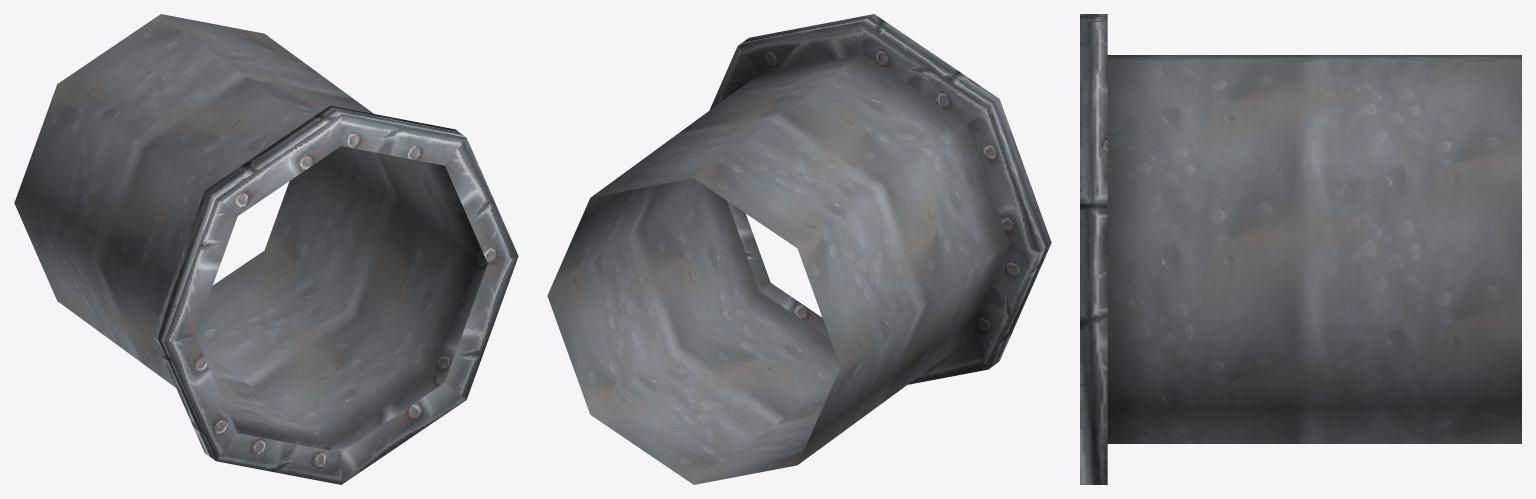
The model's file is Pipe.fbx.
3 renders of one model, left to right at view 1: azimuth 30°, elevation 25°; view 2: azimuth 150°, elevation 25°; view 3: azimuth 270°, elevation 25°, orthographic. The views are drawn at different scales.
Parts seen in each view (by area): view 1: Cylinder_022; view 2: Cylinder_022; view 3: Cylinder_022.
Part boxes in pixels (x1,y1,x2,y2): Cylinder_022: [14, 14, 518, 484]; Cylinder_022: [547, 14, 1051, 484]; Cylinder_022: [1080, 14, 1521, 484].
Bounding box in the file's own units: 1.47 × 1.47 × 1.3.
